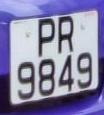4: (57, 52, 77, 98)
8: (36, 54, 59, 102)
9: (14, 54, 38, 108), (75, 48, 95, 94)
P: (35, 13, 58, 62)
R: (56, 13, 77, 57)
